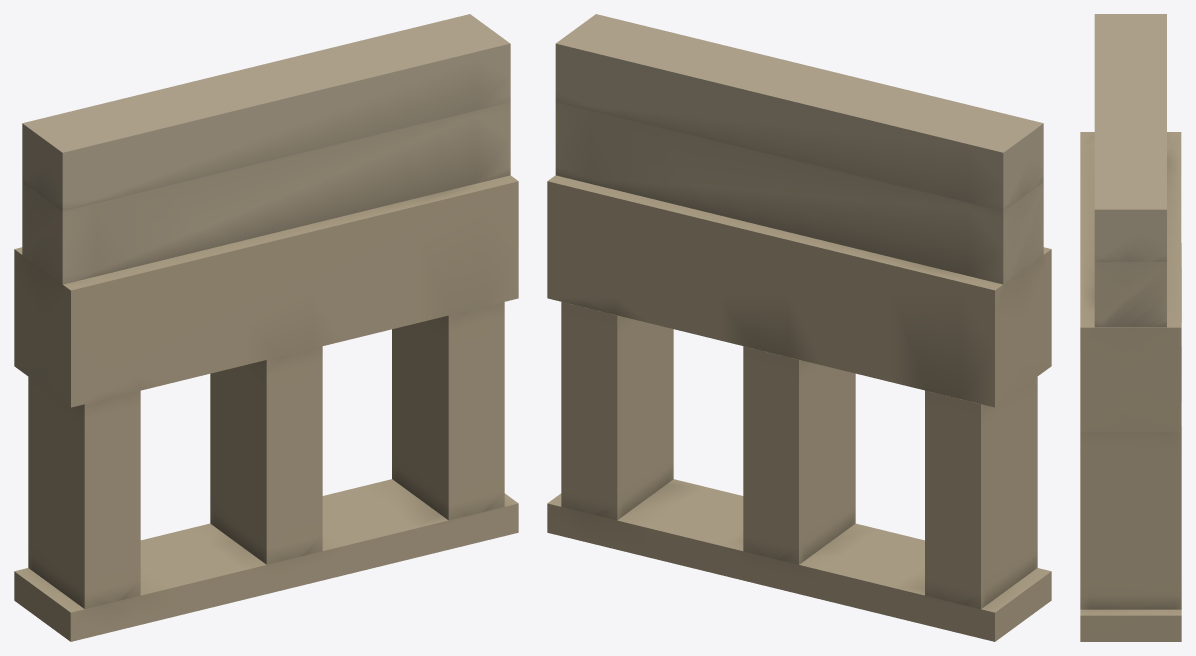
Rendered from porta-maggiore-aqueduct.glb.
3 renders of one model, left to right at view 1: azimuth 30°, elevation 25°; view 2: azimuth 150°, elevation 25°; view 3: azimuth 270°, elevation 25°, orthographic. The views are drawn at different scales.
Parts seen in each view (by area): view 1: p1_arches, p2_channels, p0_base; view 2: p1_arches, p2_channels, p0_base; view 3: p1_arches, p2_channels, p0_base.
Part boxes in pixels (box(x1,y1,x2,y2)): p1_arches: box(14, 175, 518, 608); p2_channels: box(22, 14, 510, 284); p0_base: box(14, 479, 518, 641); p1_arches: box(547, 175, 1051, 608); p2_channels: box(555, 14, 1043, 284); p0_base: box(547, 479, 1051, 641); p1_arches: box(1080, 132, 1181, 609); p2_channels: box(1094, 14, 1166, 327); p0_base: box(1080, 609, 1181, 641).
Size of the model in its own units: 32.01 by 33 by 7.01.
